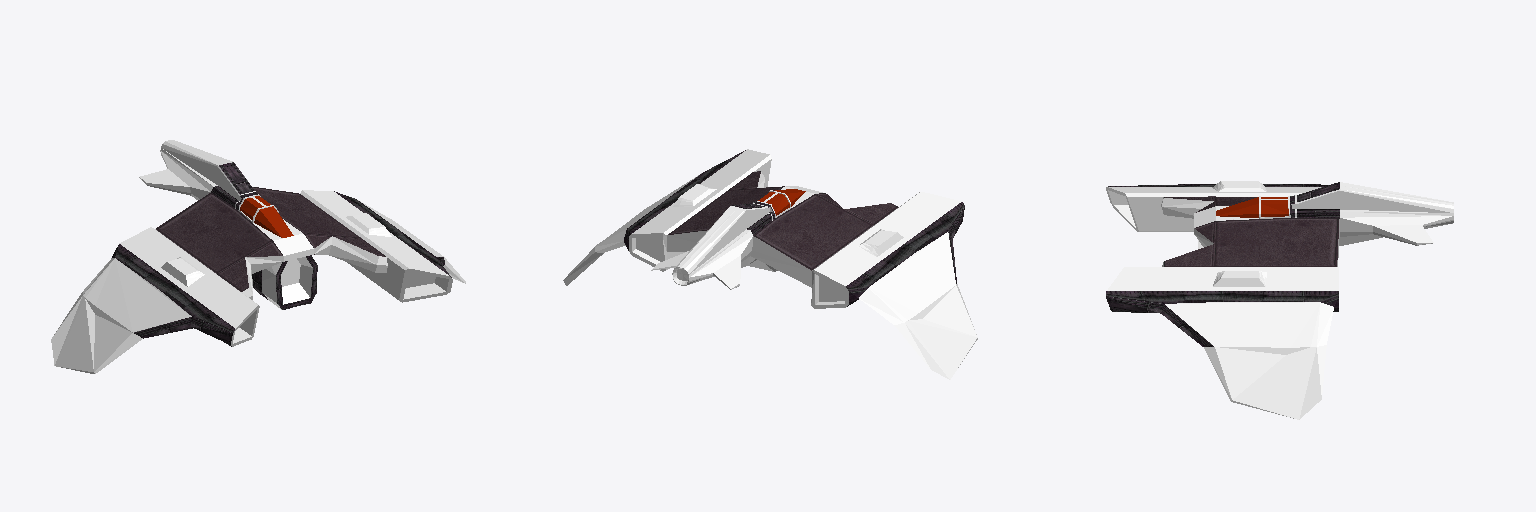
The picture shows the model from 3 angles: view 1: azimuth 30°, elevation 25°; view 2: azimuth 150°, elevation 25°; view 3: azimuth 270°, elevation 25°; orthographic projection.
Parts seen in each view (by area): view 1: Hyperion_Heavy; view 2: Hyperion_Heavy; view 3: Hyperion_Heavy.
Part boxes in pixels (left/top/right/bottom): Hyperion_Heavy: left=51, top=140, right=465, bottom=373; Hyperion_Heavy: left=563, top=149, right=977, bottom=379; Hyperion_Heavy: left=1106, top=181, right=1453, bottom=419.
Bounding box in the file's own units: 195 × 68.57 × 154.
Materials: 7 (2 with a texture image).